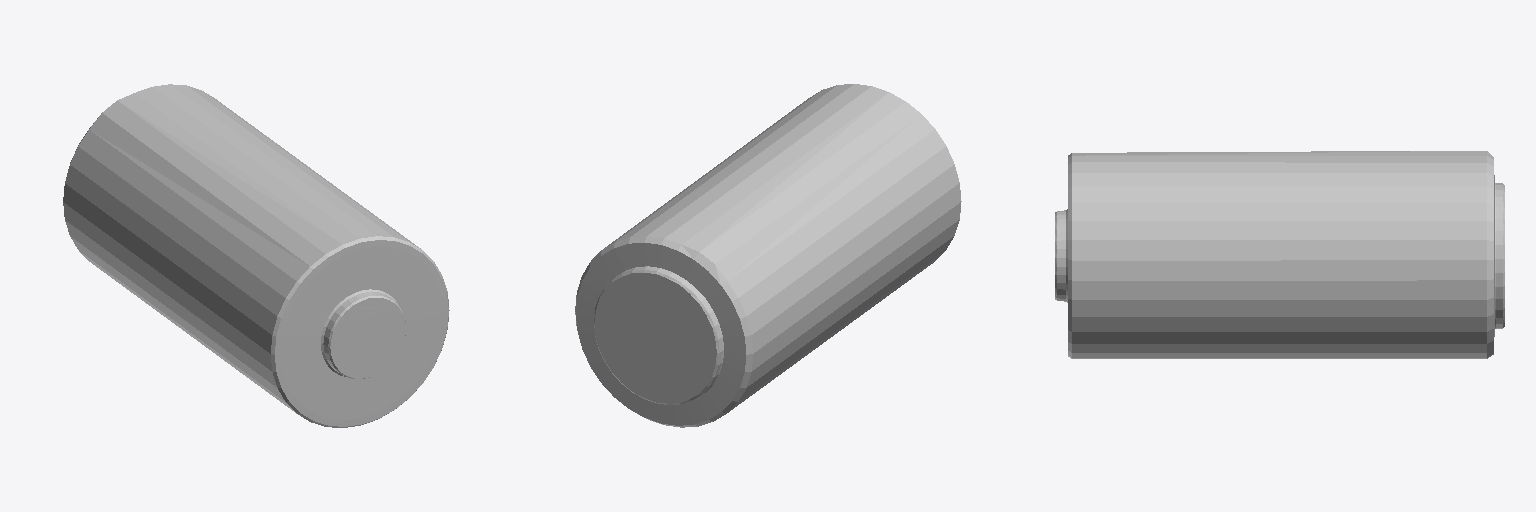
File: Battery.obj
3 renders of one model, left to right at view 1: azimuth 30°, elevation 25°; view 2: azimuth 150°, elevation 25°; view 3: azimuth 270°, elevation 25°, orthographic.
Parts seen in each view (by area): view 1: Cylinder; view 2: Cylinder; view 3: Cylinder.
Part boxes in pixels (x1,y1,x2,y2): Cylinder: (63,84,449,427); Cylinder: (575,84,961,427); Cylinder: (1055,151,1504,358).
Size of the model in its own units: 0.1942 by 0.1942 by 0.4223.